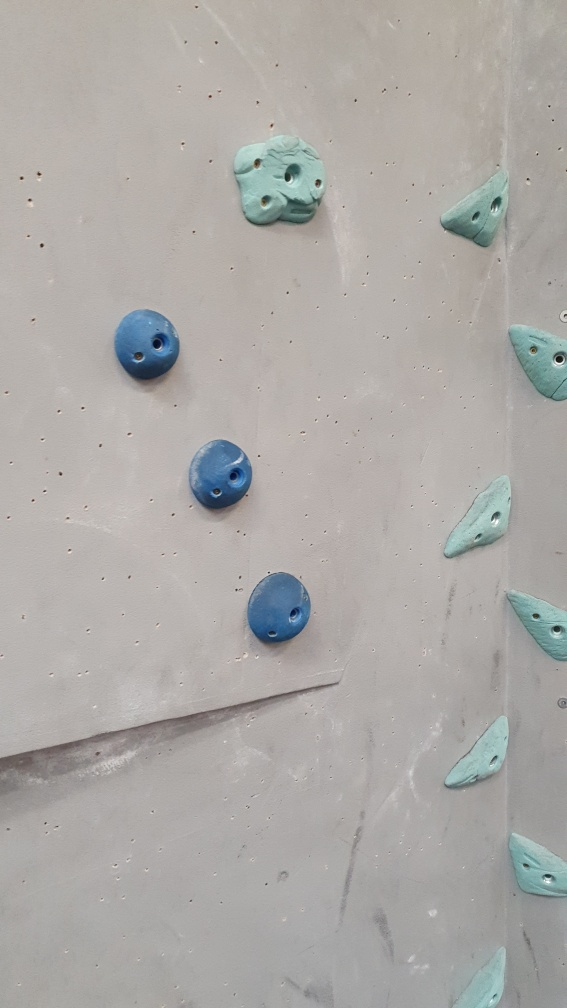Crimp: (435, 471, 512, 561), (430, 165, 506, 254), (439, 711, 515, 800), (499, 317, 567, 404), (499, 581, 567, 662), (433, 941, 514, 1008), (498, 821, 567, 899)
Sloper: (241, 564, 316, 650), (113, 301, 188, 382), (183, 435, 256, 513)
